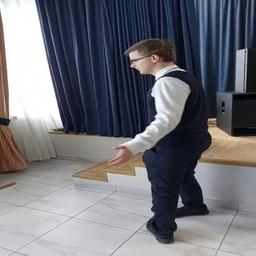person: (107, 38, 212, 245)
